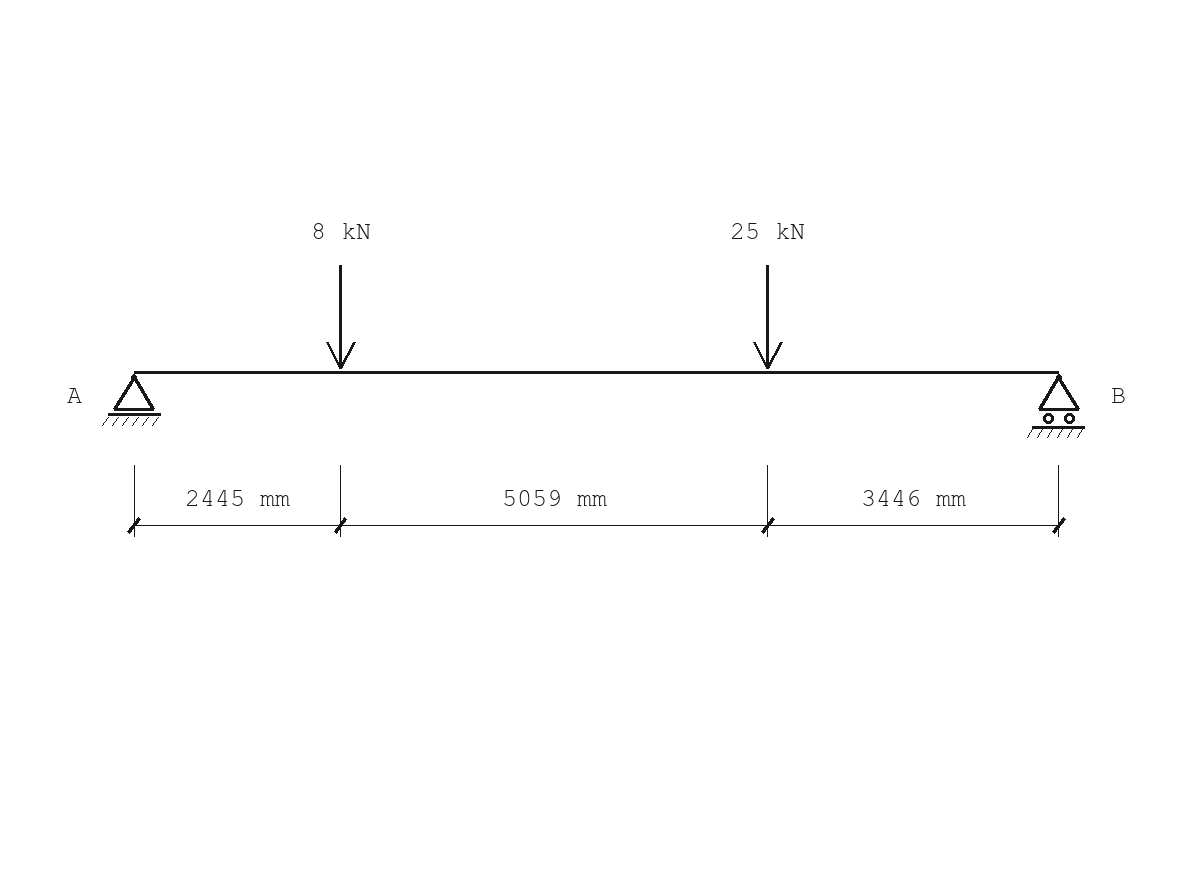pin_support: (102, 374, 161, 426)
point_load: (326, 265, 356, 369), (753, 265, 783, 369)
roller_support: (1027, 374, 1085, 438)
